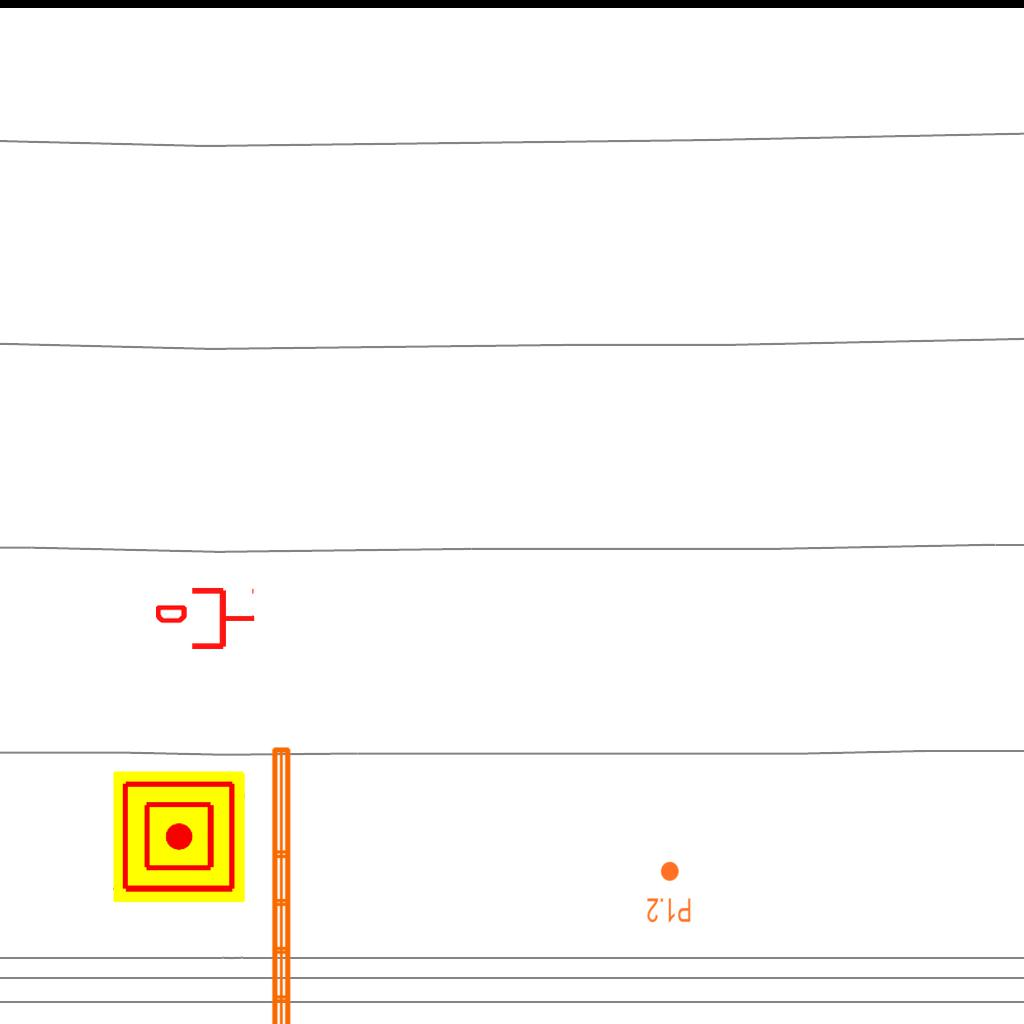Ambulanz_Pendelleuchte_LED: (266, 742, 322, 1024)
Datenanschluss_einfach: (156, 584, 256, 653)
Downlight_LED_Einbauleuchten_Flur: (646, 860, 692, 924)
NAM-Nichtautomatischer_Melder: (113, 771, 245, 903)
